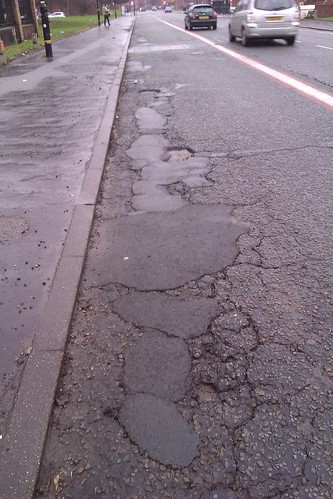car: (224, 1, 308, 48), (180, 1, 220, 34)
sidewalk: (1, 10, 146, 499)
street: (97, 16, 333, 498)
